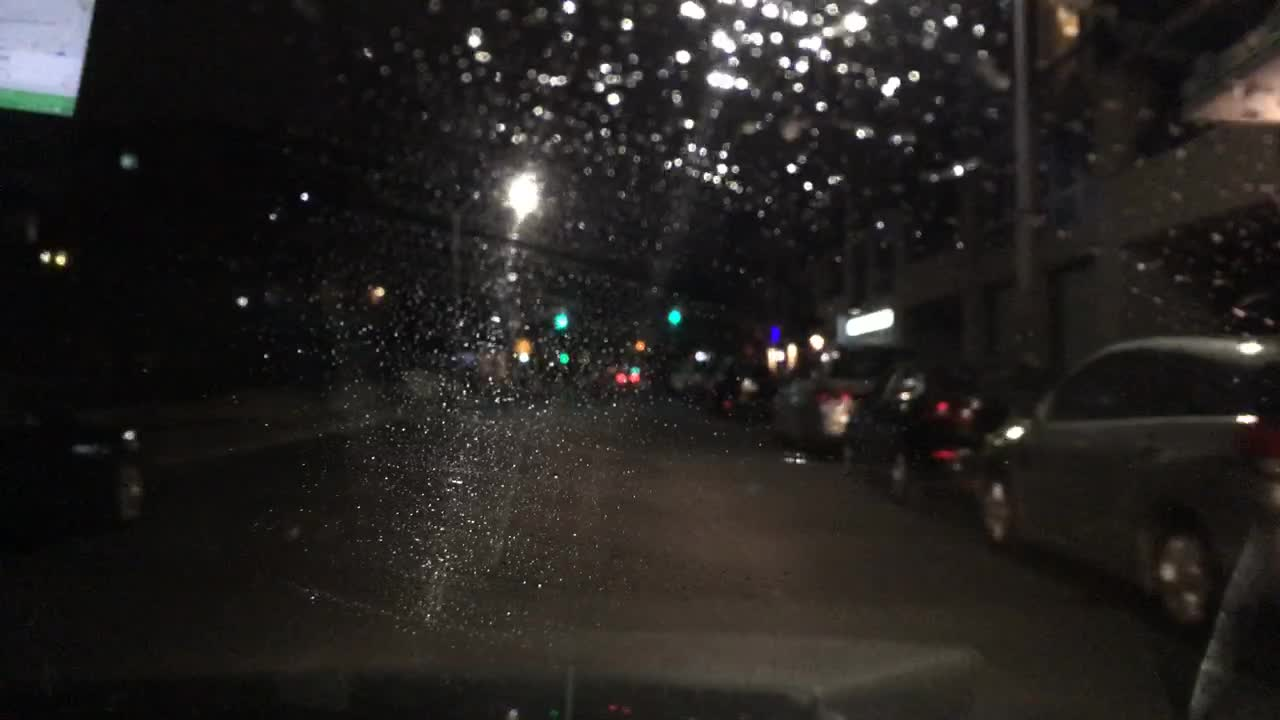car: (972, 336, 1279, 641), (841, 351, 1065, 506), (0, 386, 146, 530), (767, 343, 913, 458), (706, 355, 777, 426), (669, 351, 706, 396), (615, 370, 643, 389)
traffic light: (666, 310, 683, 325), (553, 312, 567, 330)
